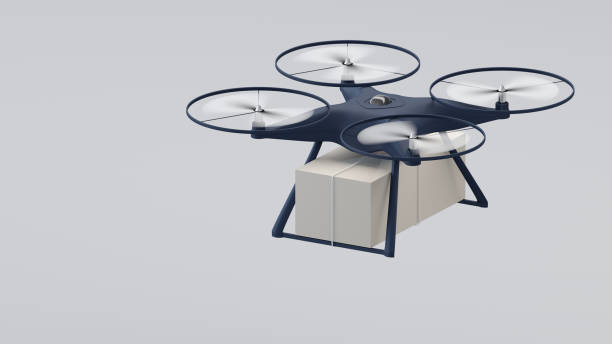Drone: (185, 37, 576, 168)
